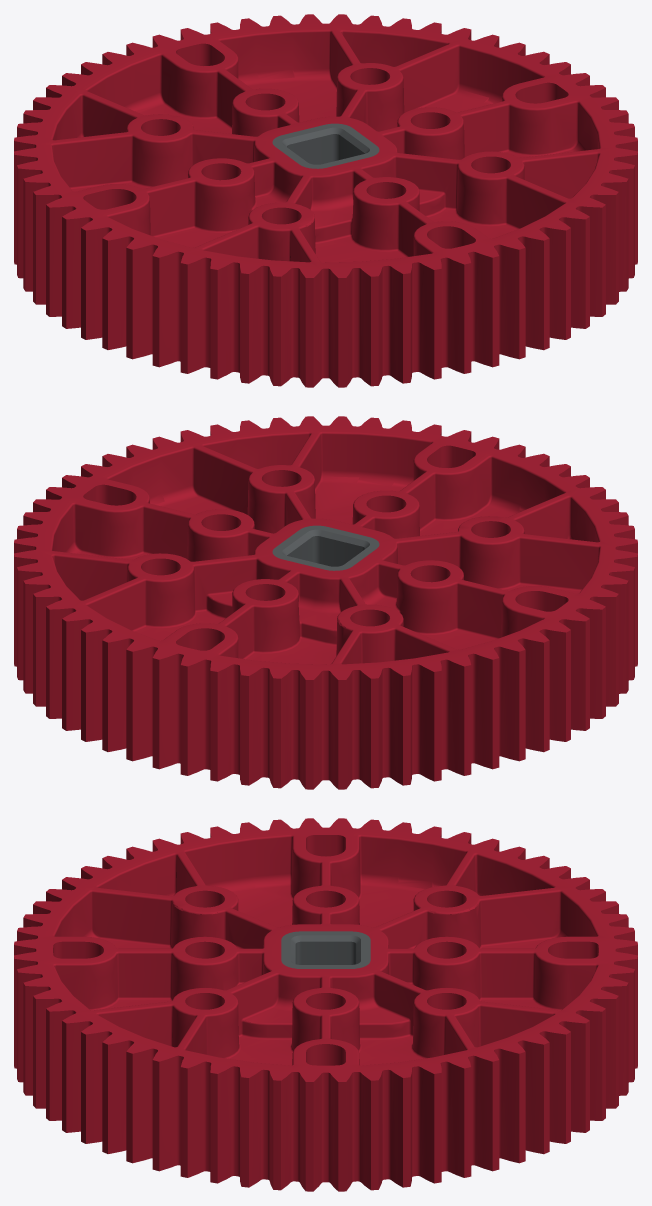
Rendered from 60T High Strength Gear v2 (8-pack) (276-7748).glb.
3 renders of one model, top to bottom at view 1: azimuth 30°, elevation 25°; view 2: azimuth 150°, elevation 25°; view 3: azimuth 270°, elevation 25°, orthographic.
Visible parts, largest first — view 1: 276-7748-001_OVERMOLD Rev3_60T 24DP Gear Rev1, 276-7573-002 Rev7; view 2: 276-7748-001_OVERMOLD Rev3_60T 24DP Gear Rev1, 276-7573-002 Rev7; view 3: 276-7748-001_OVERMOLD Rev3_60T 24DP Gear Rev1, 276-7573-002 Rev7.
Boxes of the visible parts, <box> form: 276-7748-001_OVERMOLD Rev3_60T 24DP Gear Rev1: <box>14,14,637,387</box>; 276-7573-002 Rev7: <box>272,123,379,168</box>; 276-7748-001_OVERMOLD Rev3_60T 24DP Gear Rev1: <box>14,416,637,789</box>; 276-7573-002 Rev7: <box>272,525,379,570</box>; 276-7748-001_OVERMOLD Rev3_60T 24DP Gear Rev1: <box>14,818,637,1191</box>; 276-7573-002 Rev7: <box>281,931,370,968</box>.
Size of the model in its own units: 0.0656 by 0.0127 by 0.0656.
